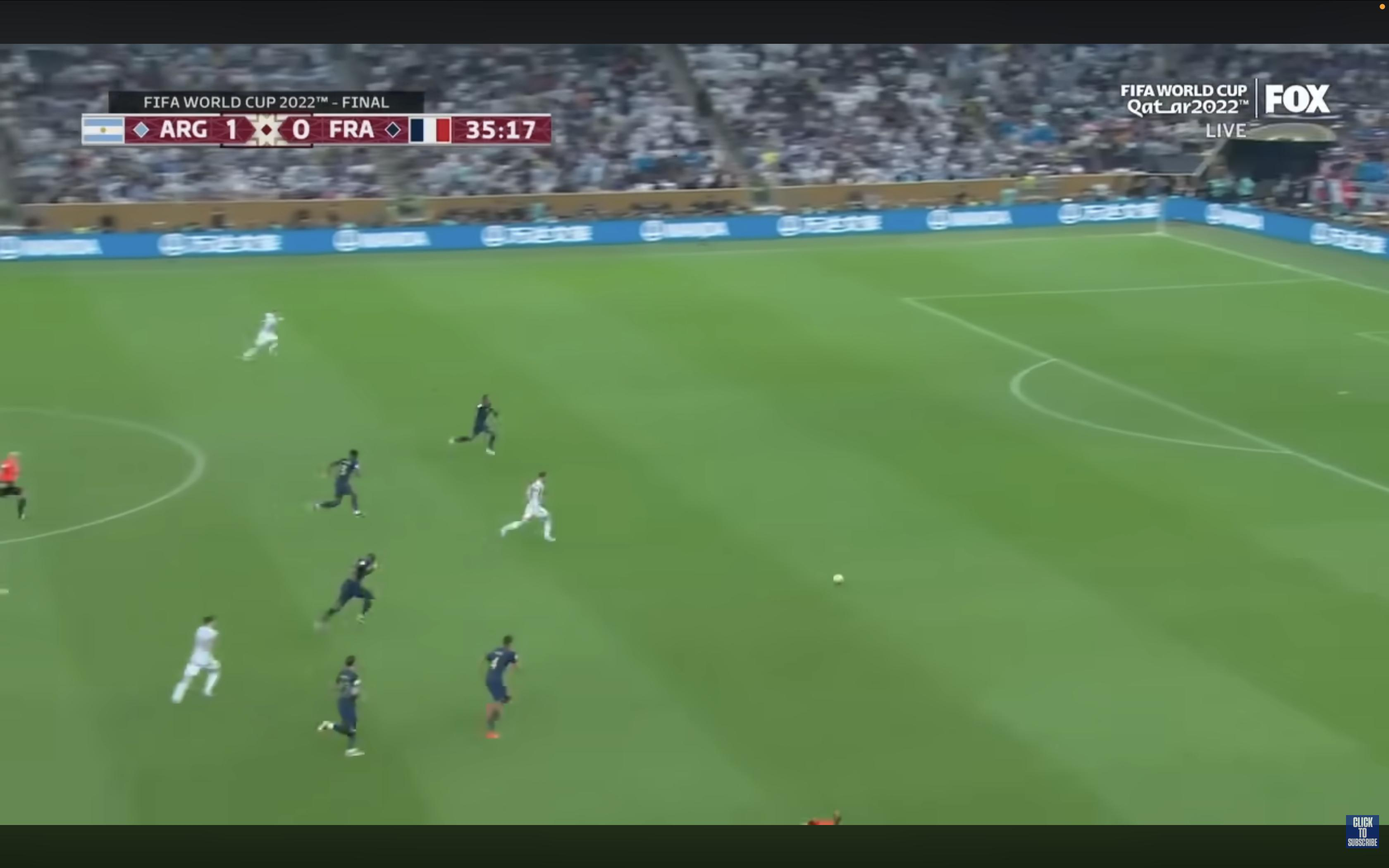ball: (832, 574, 844, 585)
player: (317, 553, 377, 629), (318, 656, 363, 757), (172, 616, 220, 703), (500, 472, 555, 542), (484, 636, 519, 738), (313, 450, 362, 517), (449, 394, 499, 454), (243, 312, 283, 360)
referee: (0, 452, 27, 520)
